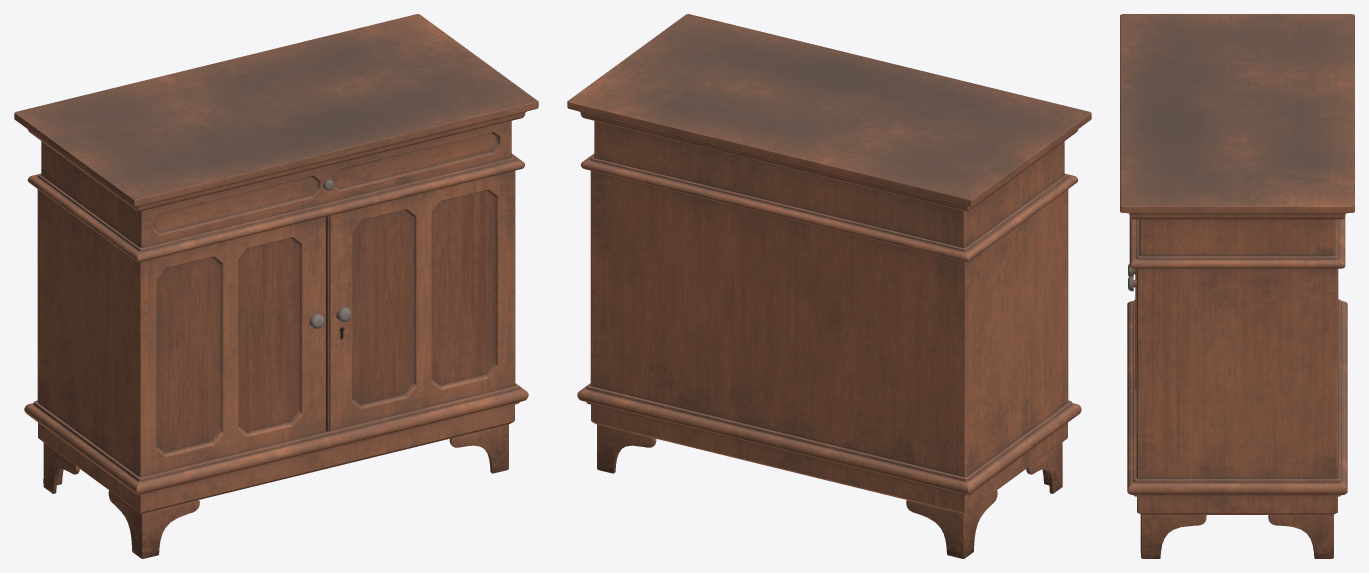
File: cabinet.glb
3 views of the same model, side by side, from view 1: azimuth 30°, elevation 25°; view 2: azimuth 150°, elevation 25°; view 3: azimuth 270°, elevation 25° (orthographic). The views are drawn at different scales.
Parts seen in each view (by area): view 1: Line019_CabinetA_0, Object008_CabinetA_0, Object009_CabinetA_0, Line020_CabinetA_0, Line025_CabinetA_0, Line024_CabinetA_0; view 2: Line019_CabinetA_0, Line024_CabinetA_0, Line026_CabinetA_0, Line020_CabinetA_0; view 3: Line019_CabinetA_0, Line025_CabinetA_0, Line026_CabinetA_0.
Boxes of the visible parts, x1,y1,x2,y2 form: Line019_CabinetA_0: (14, 14, 538, 513); Object008_CabinetA_0: (142, 171, 514, 476); Object009_CabinetA_0: (143, 121, 510, 247); Line020_CabinetA_0: (108, 490, 199, 558); Line025_CabinetA_0: (449, 424, 508, 473); Line024_CabinetA_0: (43, 442, 79, 493); Line019_CabinetA_0: (567, 14, 1091, 513); Line024_CabinetA_0: (906, 490, 997, 558); Line026_CabinetA_0: (597, 424, 656, 473); Line020_CabinetA_0: (1026, 442, 1062, 493); Line019_CabinetA_0: (1120, 14, 1354, 514); Line025_CabinetA_0: (1140, 514, 1206, 558); Line026_CabinetA_0: (1268, 514, 1333, 558).
Bounding box in the file's own units: 1 × 0.8793 × 0.5168.
1 material, 1 textured.
